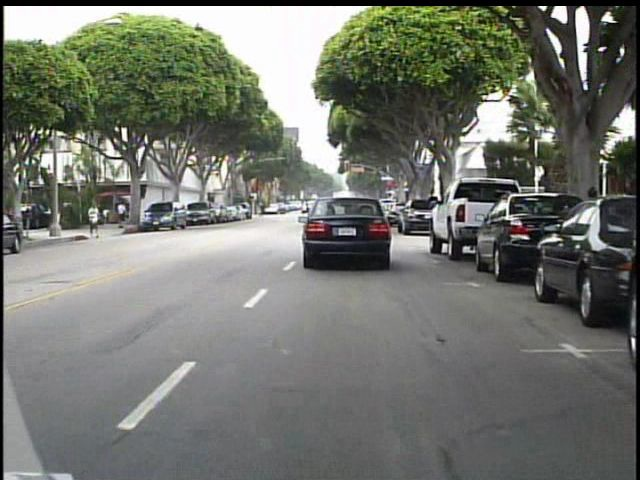person: (82, 197, 101, 239), (117, 197, 130, 228), (253, 200, 267, 222)
